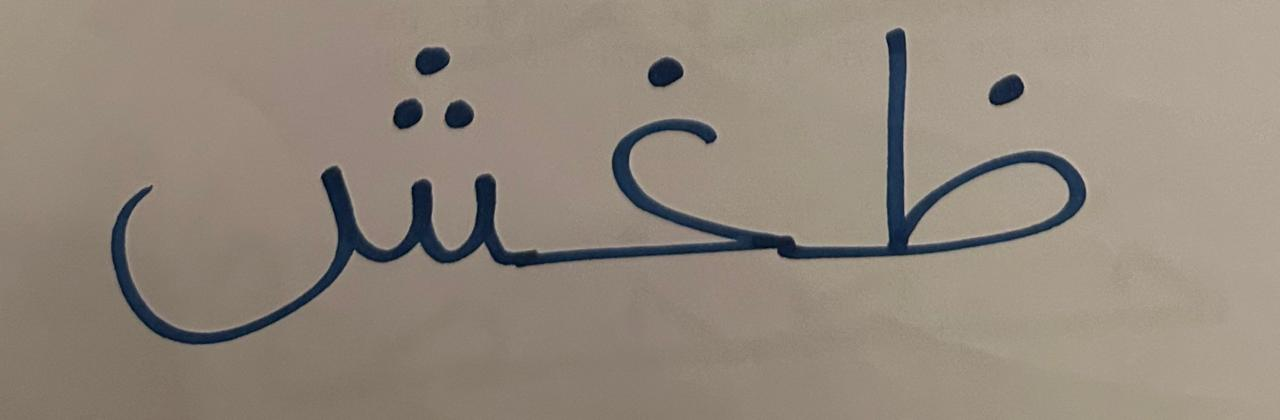ghain: (530, 16, 818, 328)
tah: (62, 7, 524, 372)
zain: (823, 10, 1147, 331)
